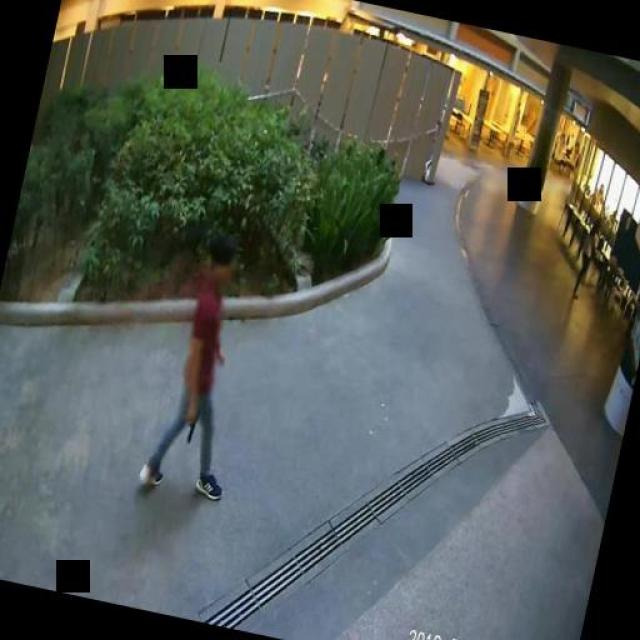gun: (179, 400, 200, 442)
